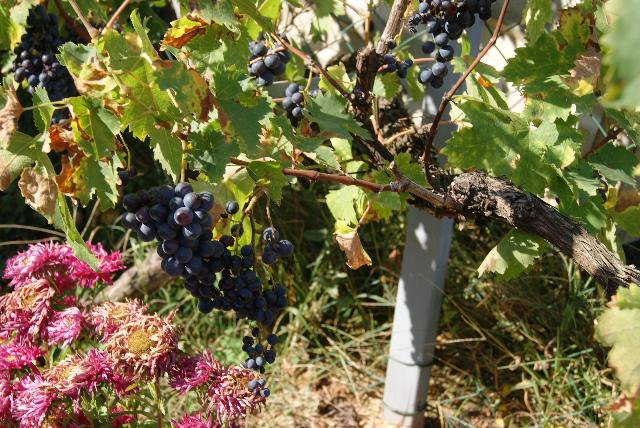grapes: (121, 181, 234, 311), (219, 245, 288, 398), (409, 0, 492, 89), (261, 228, 292, 265)
